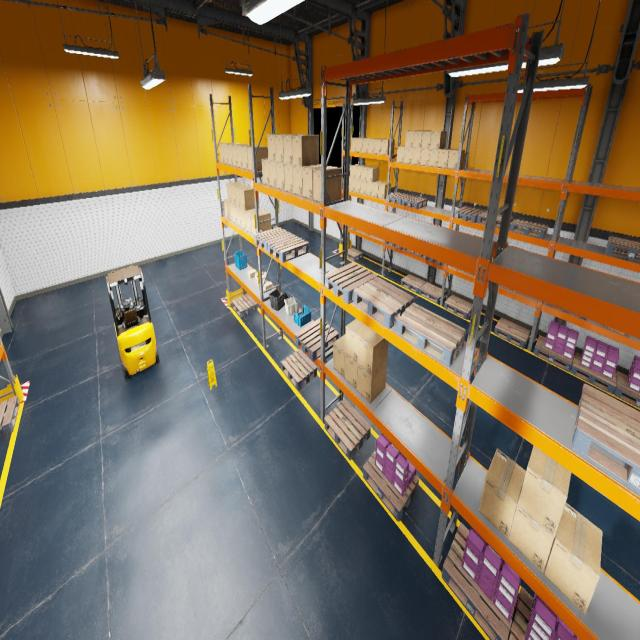box: (544, 502, 602, 614), (518, 446, 571, 537), (478, 448, 526, 538), (509, 497, 554, 573), (358, 328, 388, 376), (357, 362, 387, 404), (313, 166, 342, 203), (345, 319, 369, 363), (302, 164, 330, 199), (292, 134, 319, 167), (275, 134, 298, 163), (283, 134, 305, 164), (333, 333, 345, 378), (344, 353, 358, 390), (247, 146, 268, 170), (251, 210, 271, 235), (239, 186, 259, 210), (267, 134, 284, 162), (241, 145, 260, 170), (246, 208, 264, 234), (235, 185, 252, 208), (230, 183, 247, 205), (226, 182, 243, 204), (232, 144, 248, 167), (447, 149, 465, 169), (227, 144, 243, 166), (438, 148, 454, 168), (223, 143, 238, 164), (219, 142, 234, 163), (236, 144, 249, 168), (430, 131, 447, 149), (602, 324, 626, 336), (293, 165, 302, 196), (284, 164, 293, 193), (405, 130, 420, 147), (276, 162, 284, 190), (268, 161, 276, 187), (378, 182, 391, 198), (366, 166, 379, 182), (381, 138, 394, 154), (372, 180, 384, 197), (428, 148, 439, 166), (262, 158, 269, 185), (360, 166, 372, 181), (374, 139, 386, 154), (420, 148, 430, 165), (422, 131, 432, 148), (351, 138, 363, 152), (413, 130, 422, 148), (350, 164, 361, 178), (362, 138, 373, 152), (404, 147, 413, 164), (240, 209, 247, 230), (412, 148, 421, 164), (356, 166, 366, 180), (368, 138, 377, 153), (396, 146, 404, 162), (236, 206, 242, 227), (356, 138, 364, 152), (256, 279, 266, 289), (232, 204, 237, 223), (257, 272, 266, 282), (366, 182, 372, 196), (360, 180, 366, 194), (263, 281, 272, 290), (254, 272, 264, 280), (228, 202, 232, 221), (224, 199, 228, 218), (248, 269, 256, 278), (514, 290, 526, 296), (355, 179, 360, 193), (350, 178, 355, 192), (501, 286, 513, 290), (464, 271, 474, 275), (511, 246, 524, 249), (454, 268, 463, 272), (350, 138, 352, 151), (348, 176, 349, 190)
forklift: (106, 265, 159, 379)
pallets: (441, 523, 520, 639), (571, 384, 640, 494), (396, 303, 466, 367), (362, 451, 418, 521), (353, 277, 414, 328), (324, 399, 370, 460), (324, 262, 378, 304), (570, 352, 616, 394), (295, 318, 338, 361), (281, 349, 317, 390), (534, 336, 574, 372), (509, 588, 533, 640), (267, 235, 309, 262), (494, 317, 530, 348), (254, 227, 292, 252), (614, 372, 640, 408), (605, 236, 640, 261), (0, 395, 20, 436), (509, 218, 548, 238), (444, 294, 472, 320), (546, 303, 586, 320), (232, 293, 258, 318), (477, 211, 513, 228), (419, 282, 446, 303), (454, 206, 486, 223), (401, 274, 426, 293), (387, 192, 411, 205), (402, 196, 428, 208), (347, 247, 363, 261), (423, 256, 444, 266), (385, 241, 403, 250), (403, 248, 423, 256), (348, 226, 356, 230)
